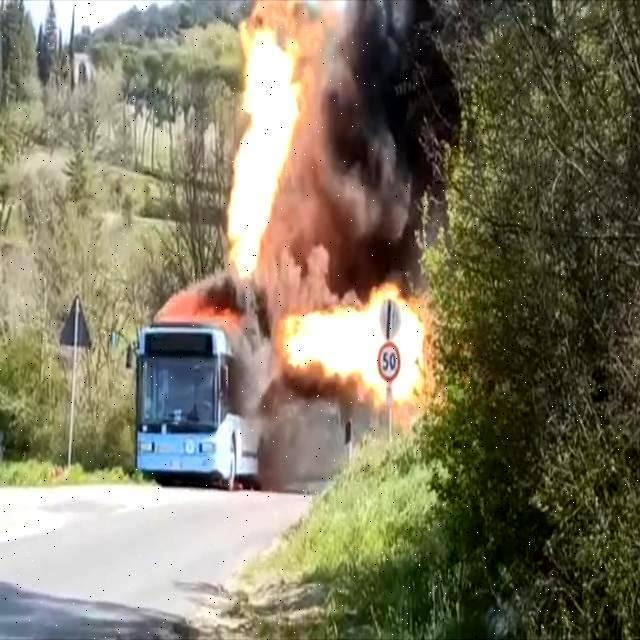Fire: (229, 28, 309, 284), (293, 294, 437, 406)
Smoke: (294, 18, 540, 294)
